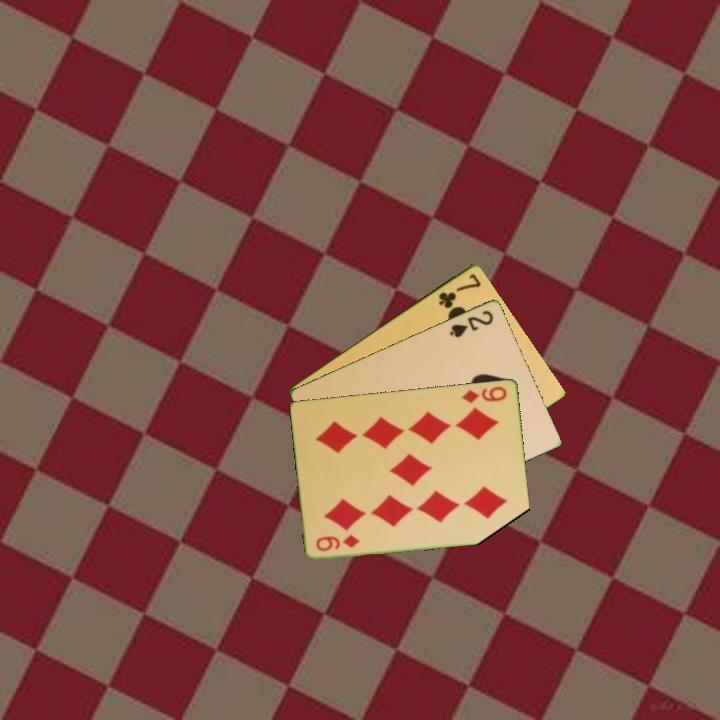2s: (446, 306, 496, 340)
7c: (435, 270, 484, 311)
9d: (458, 383, 510, 406), (312, 531, 362, 554)
